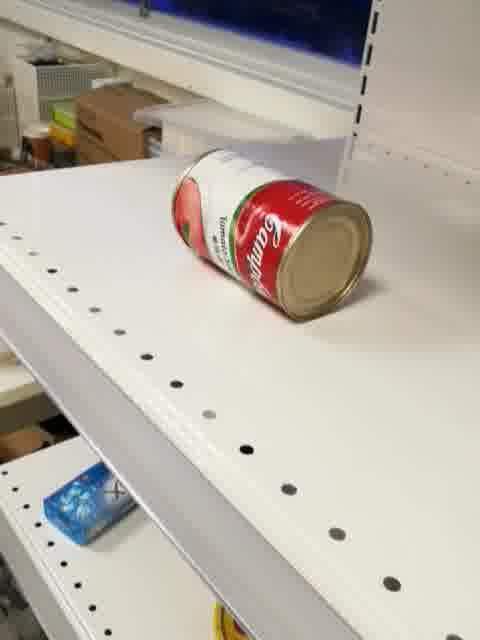tomatosoup: (168, 147, 374, 326)
